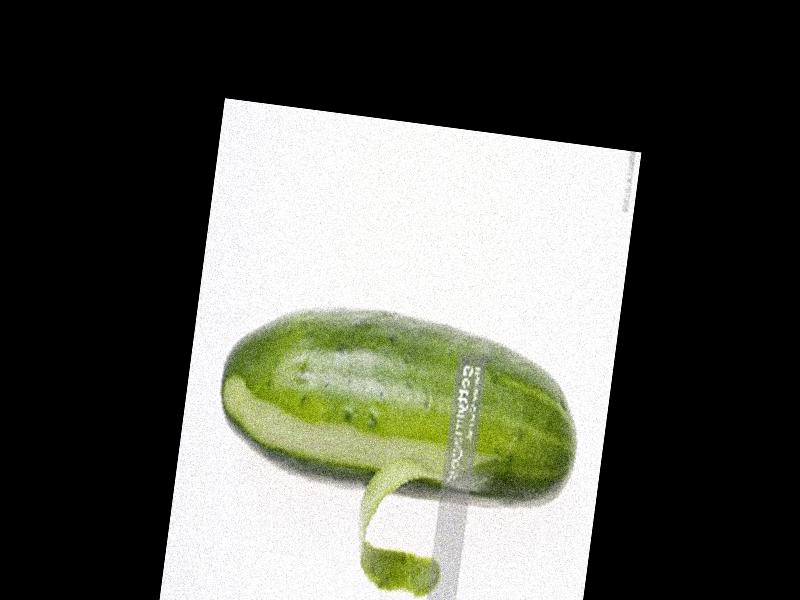Cucumber: (207, 293, 591, 521)
